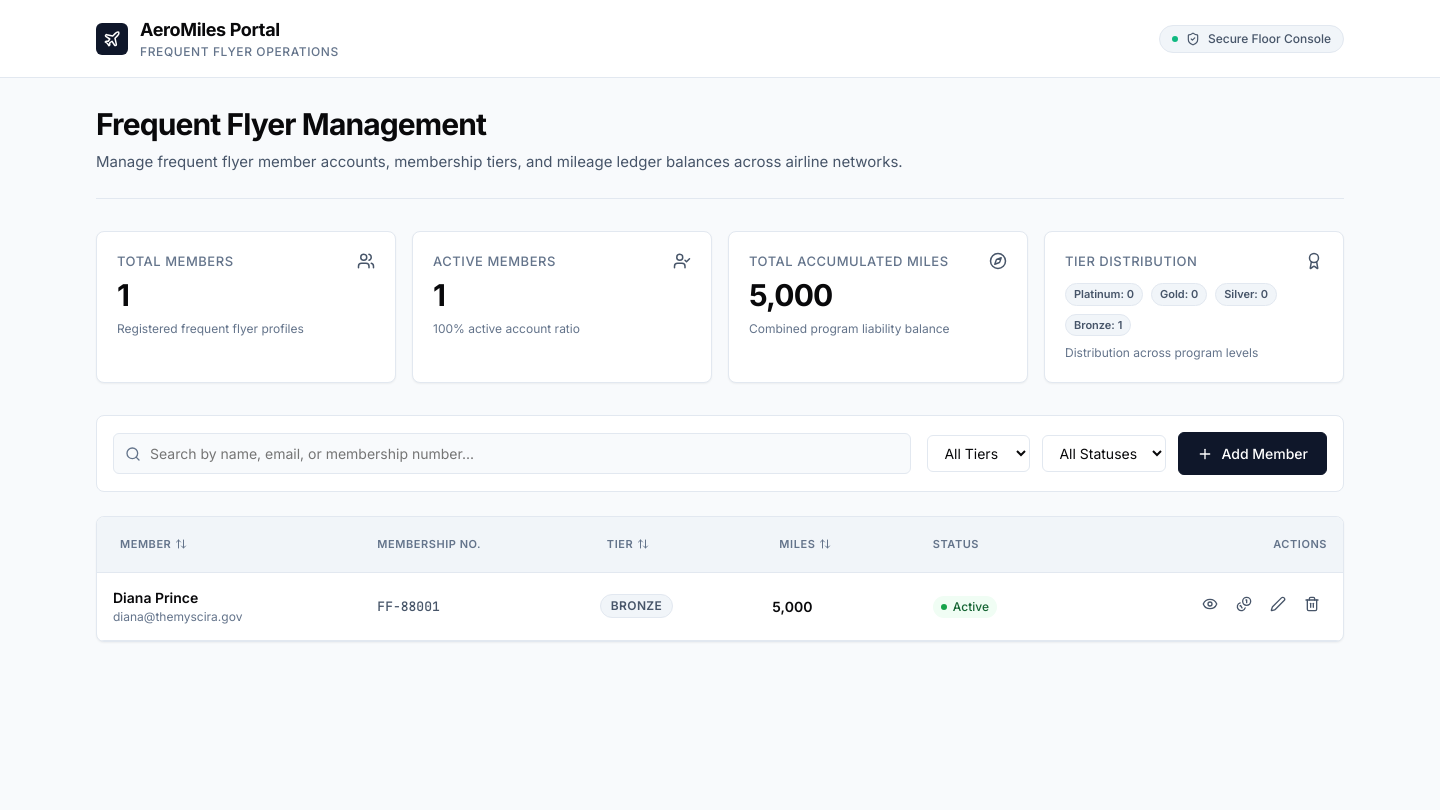
Test: Happy-Path Tests (TRD Section 9) › 5. An existing member can be updated with new details
This screenshot has width=1440, height=810.
Click the button named "edit diana prince" at (1278, 606), box [1263,588,1293,624]
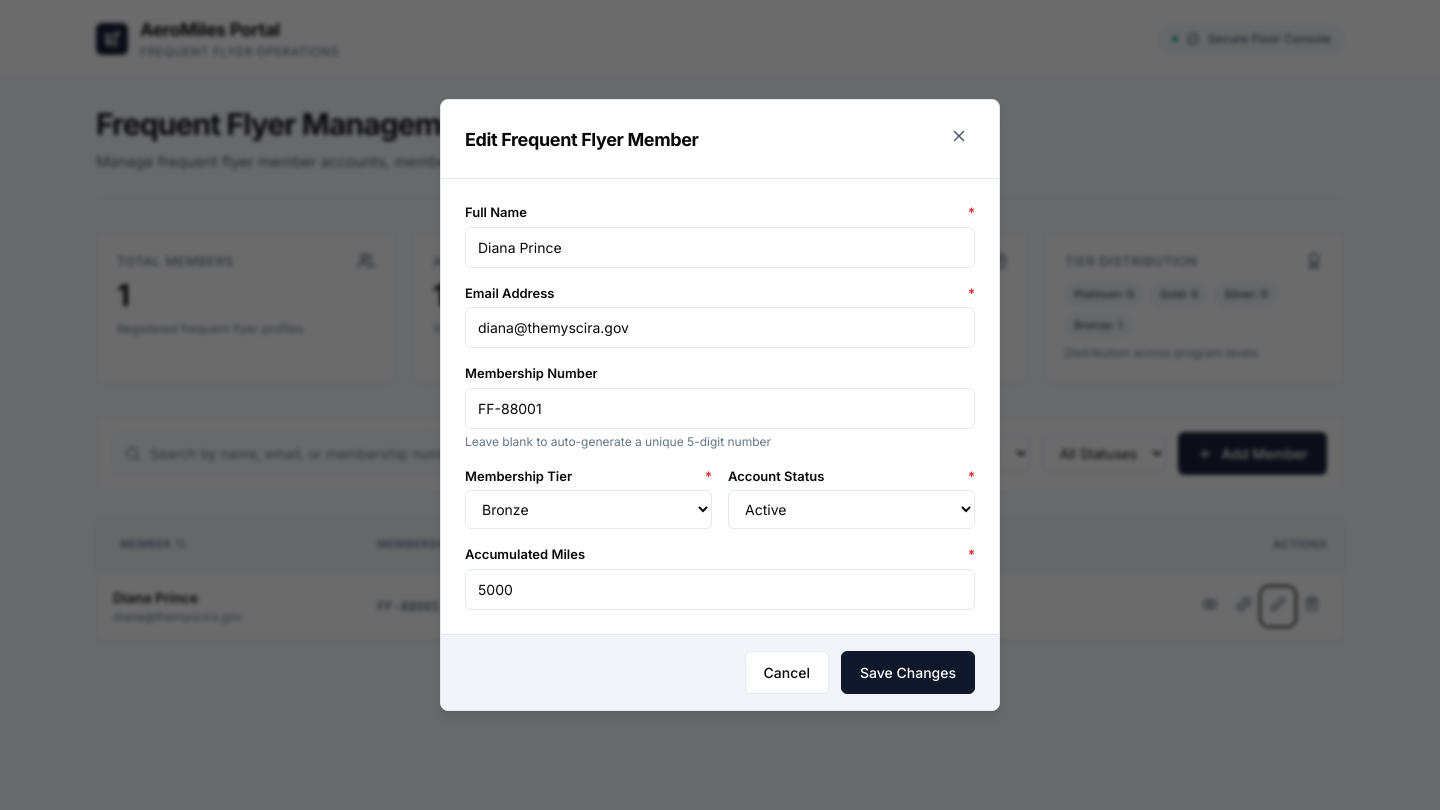
Replace the text in the field labelled "Full Name *" with "Diana Prince Trevor" at (720, 247), box [465,227,975,268]
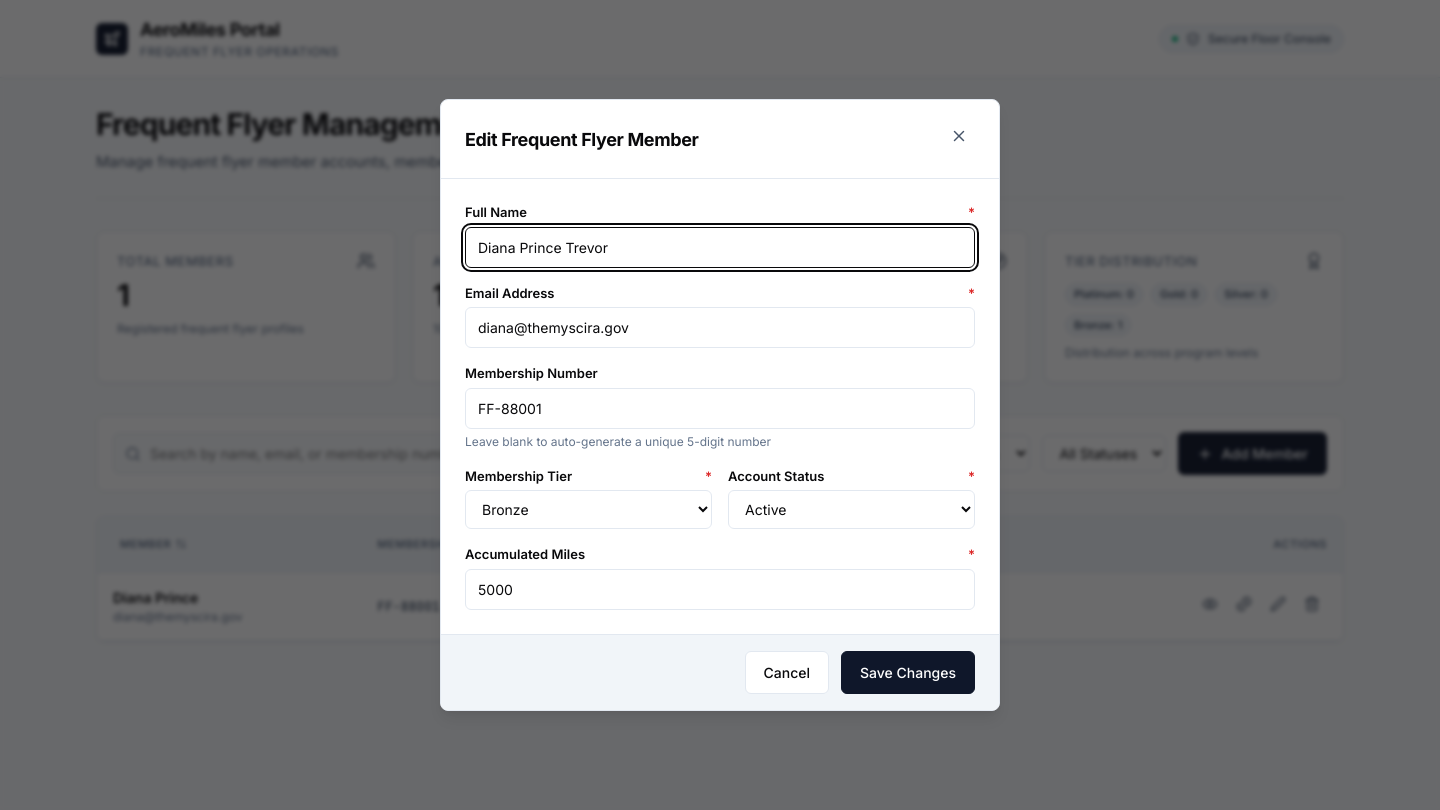
Select "Gold" in the dropdown labelled "Membership Tier *" at (588, 510), box [465,490,712,529]
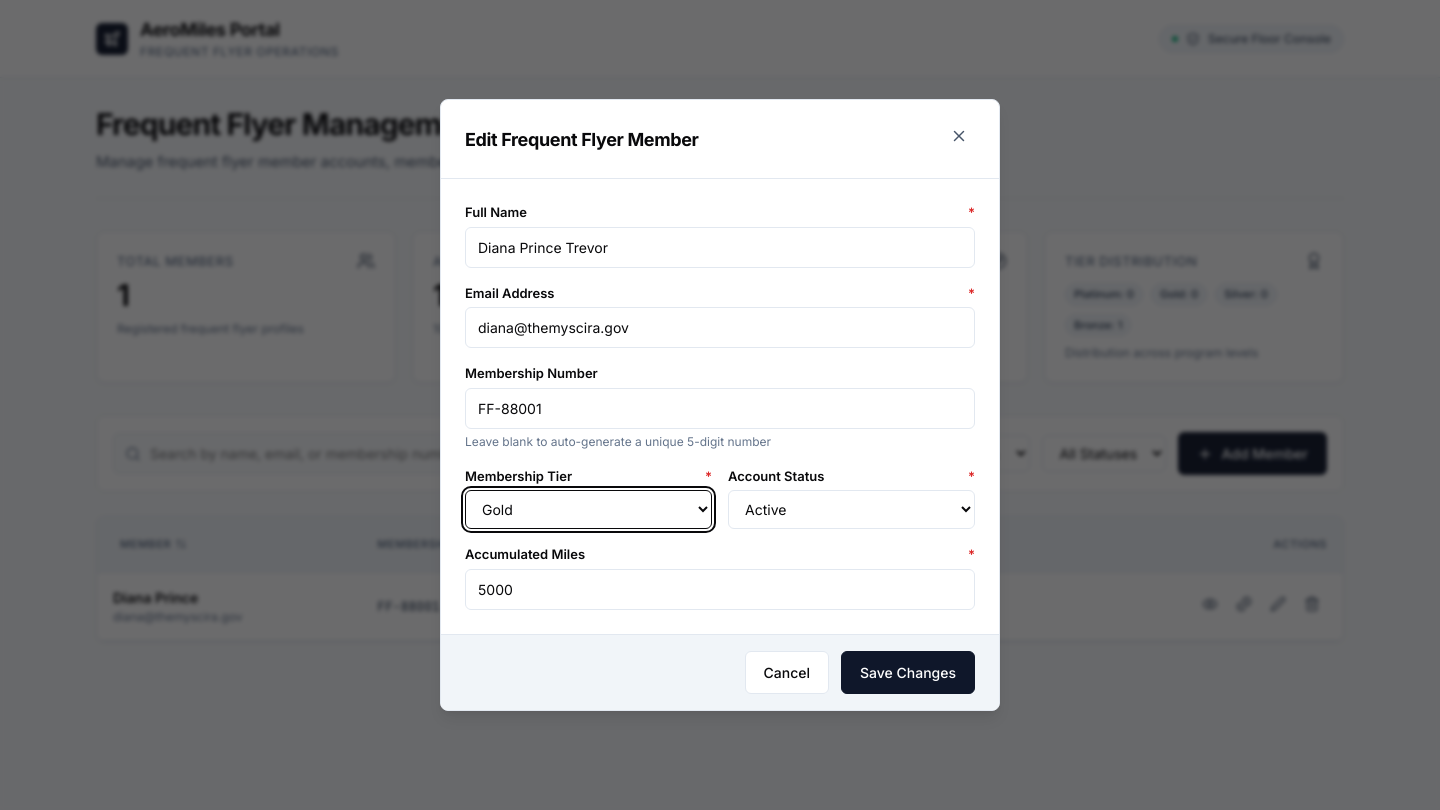
Click the button "Save Changes" at (908, 672), box [841,651,975,694]
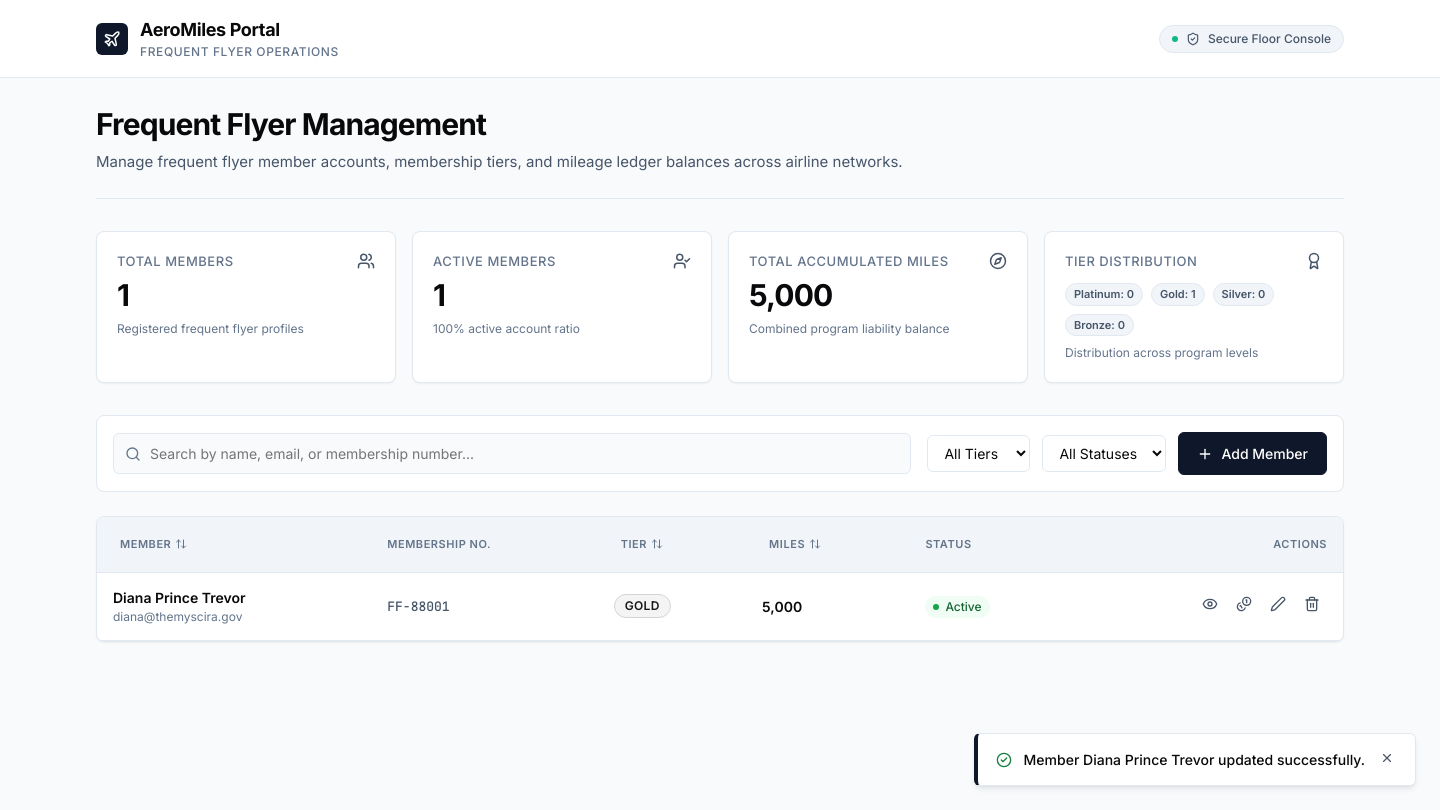
expect the dialog is gone: met
expect the text "Diana Prince Trevor" is shown: met, box [113,588,246,606]
expect the text "Gold" is shown: met, box [614,594,671,618]
